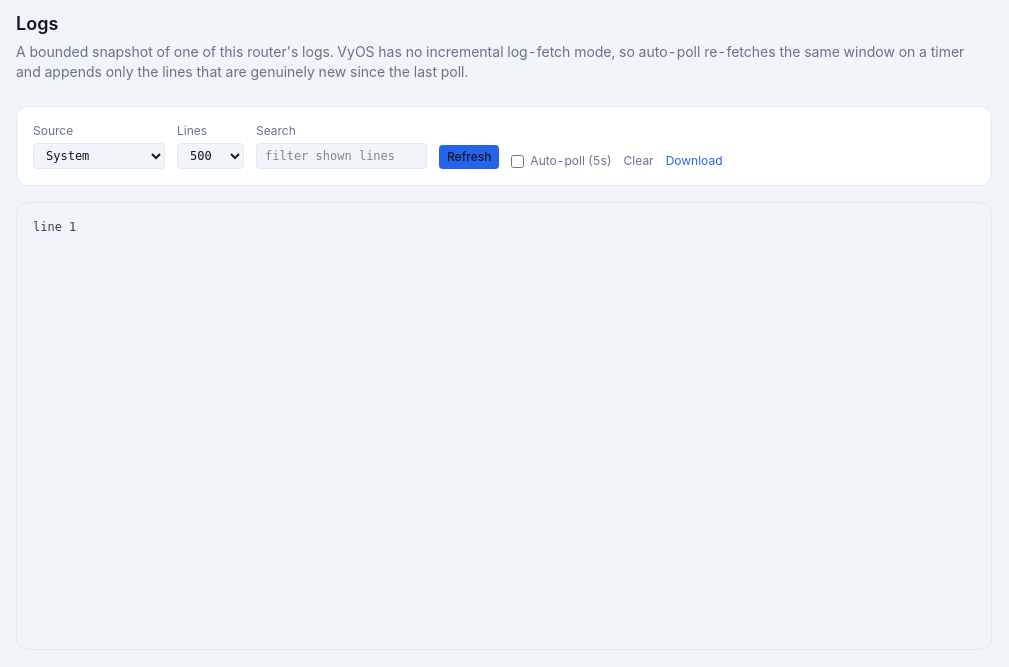
it: LogsPage › keeps the viewport scrolled to where the user left it once the listener has had a chance to attach
Step 1. Click the button "Refresh" → (469, 157), box x1=439 y1=145 x2=499 y2=169
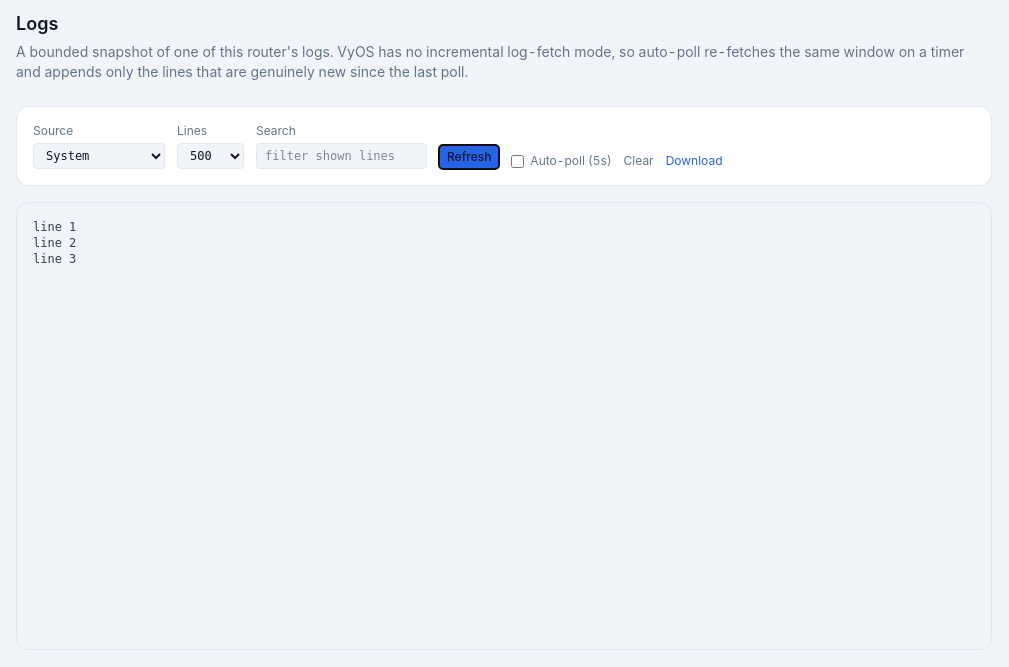
Check: the text "line 1 line 2 line 3" is shown
